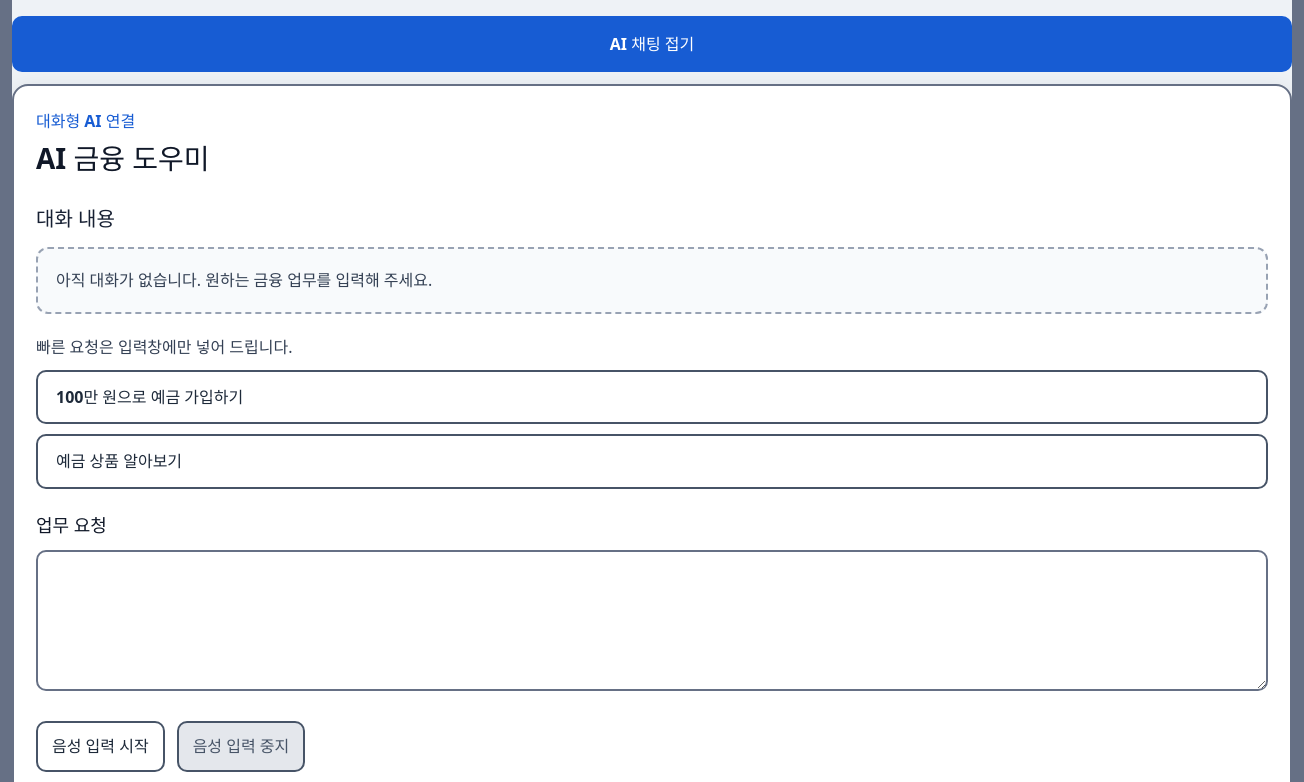
it: AgentChat transport integration › 더 높은 goalRevision의 AI_MESSAGE 후 authoritative snapshot에서만 질문을 제거한다
The image size is (1304, 782).
In the text box labelled "업무 요청": (652, 621) [36,550,1268,691], type "예금 가입해줘"
(page scrolled)
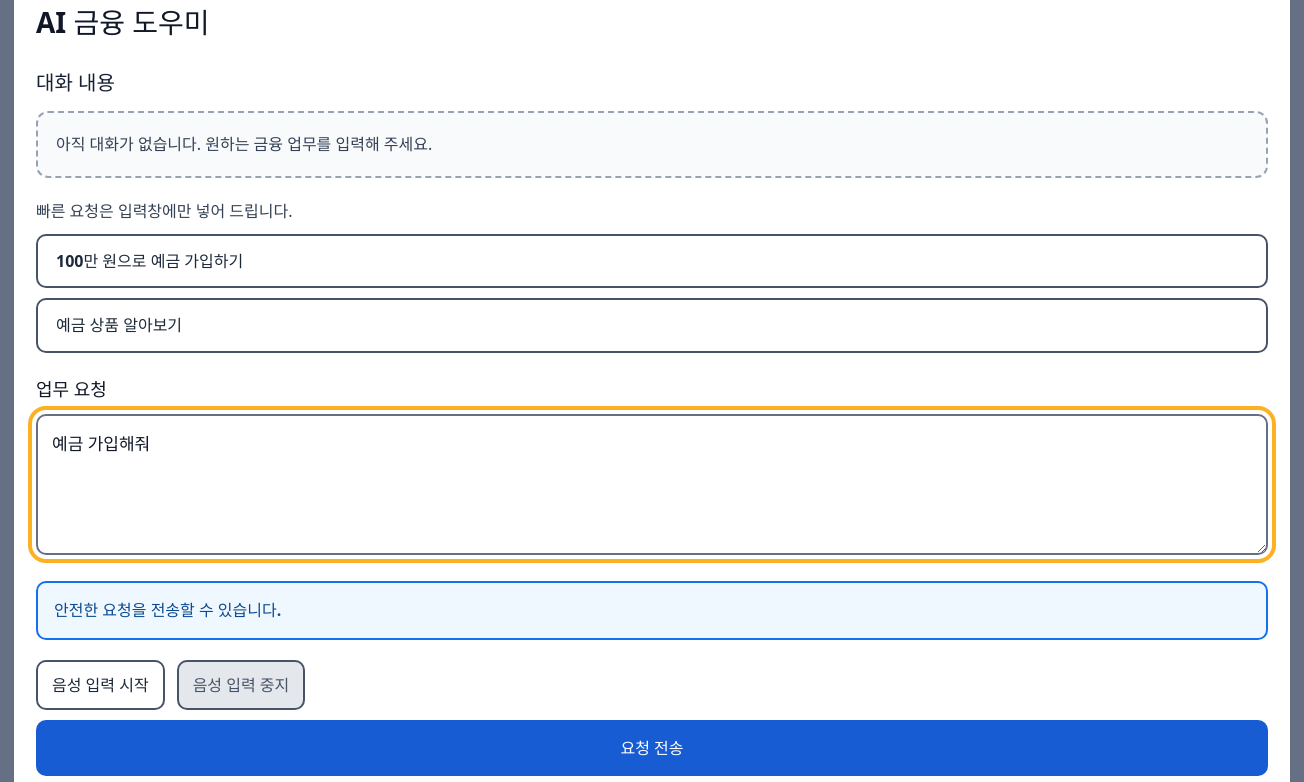
Click the button "요청 전송": (652, 748) [36,720,1268,776]
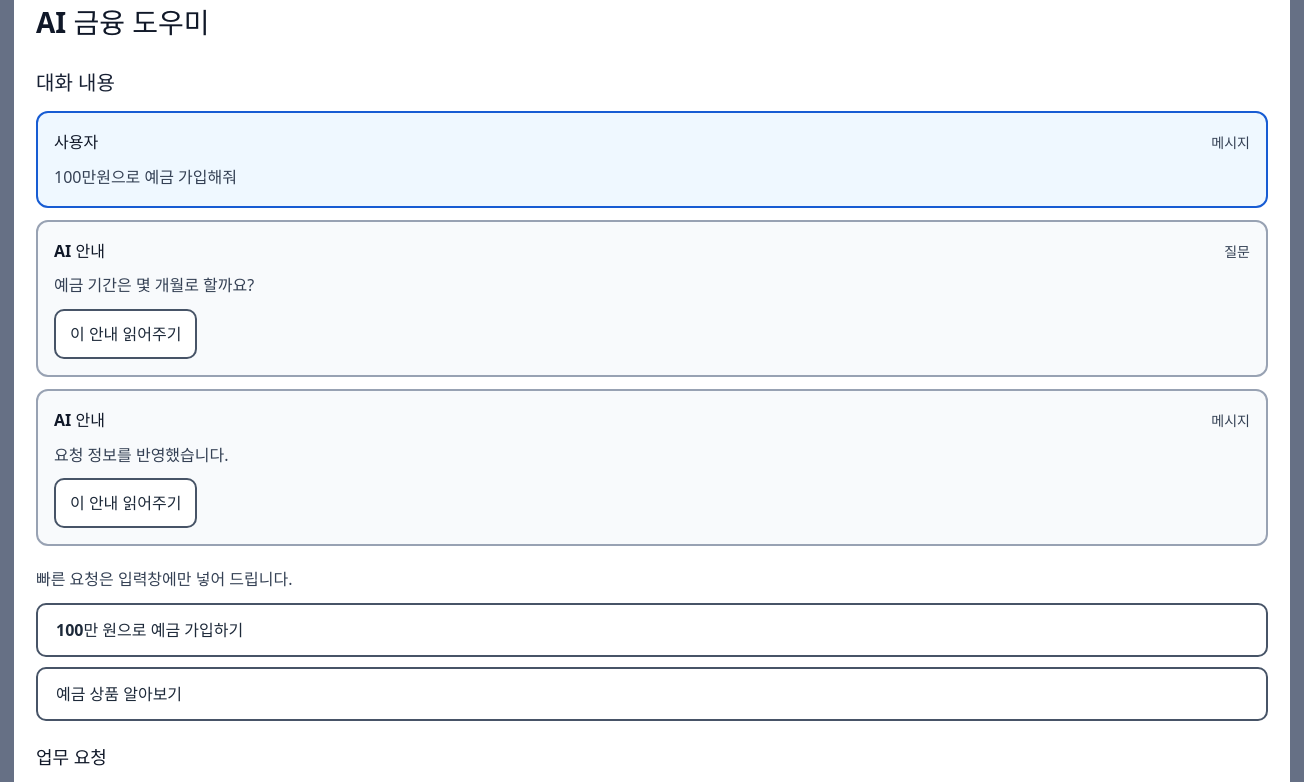
expect the text "예금 기간은 몇 개월로 할까요?" is shown: met, box [54,274,254,296]
expect the text "요청 정보를 반영했습니다." is shown: met, box [54,444,228,466]
